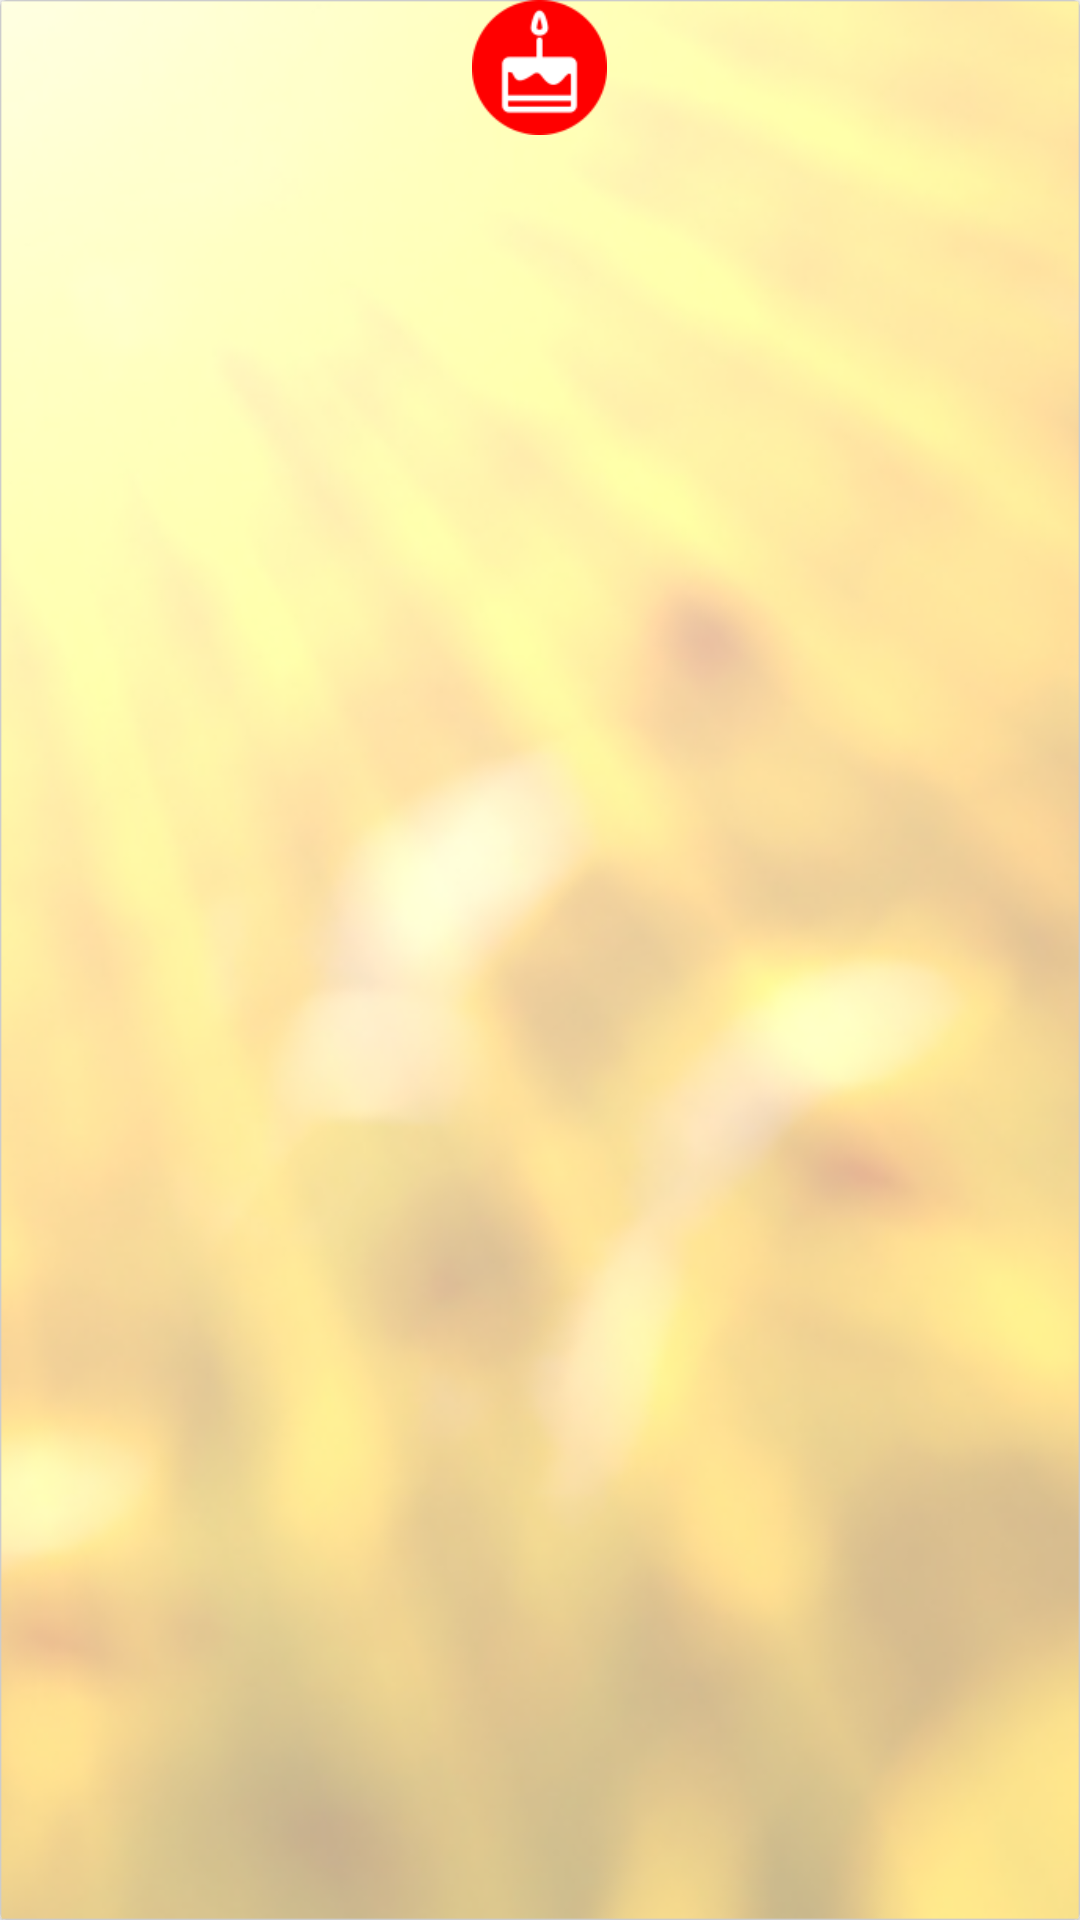

Icons on this 1080 x 1920 Android screen, each with the point to tap as (x=x, y=y):
type birthday: (x=539, y=67)
